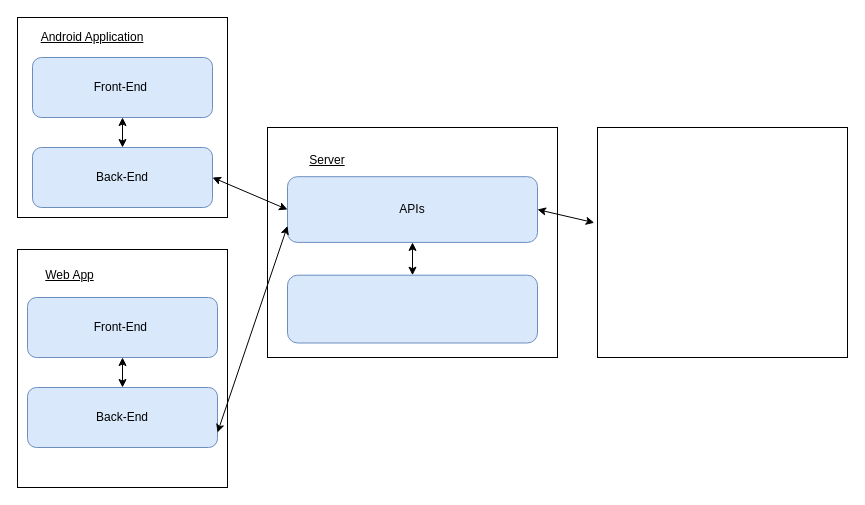
Some shapes in this 865 by 505 pixel diagram are drawn without their labels. Here are the shapes that lost their labels. From the top down, the box of each, then its label:
(596, 126, 848, 358): IoT Device
(286, 274, 538, 343): Database
